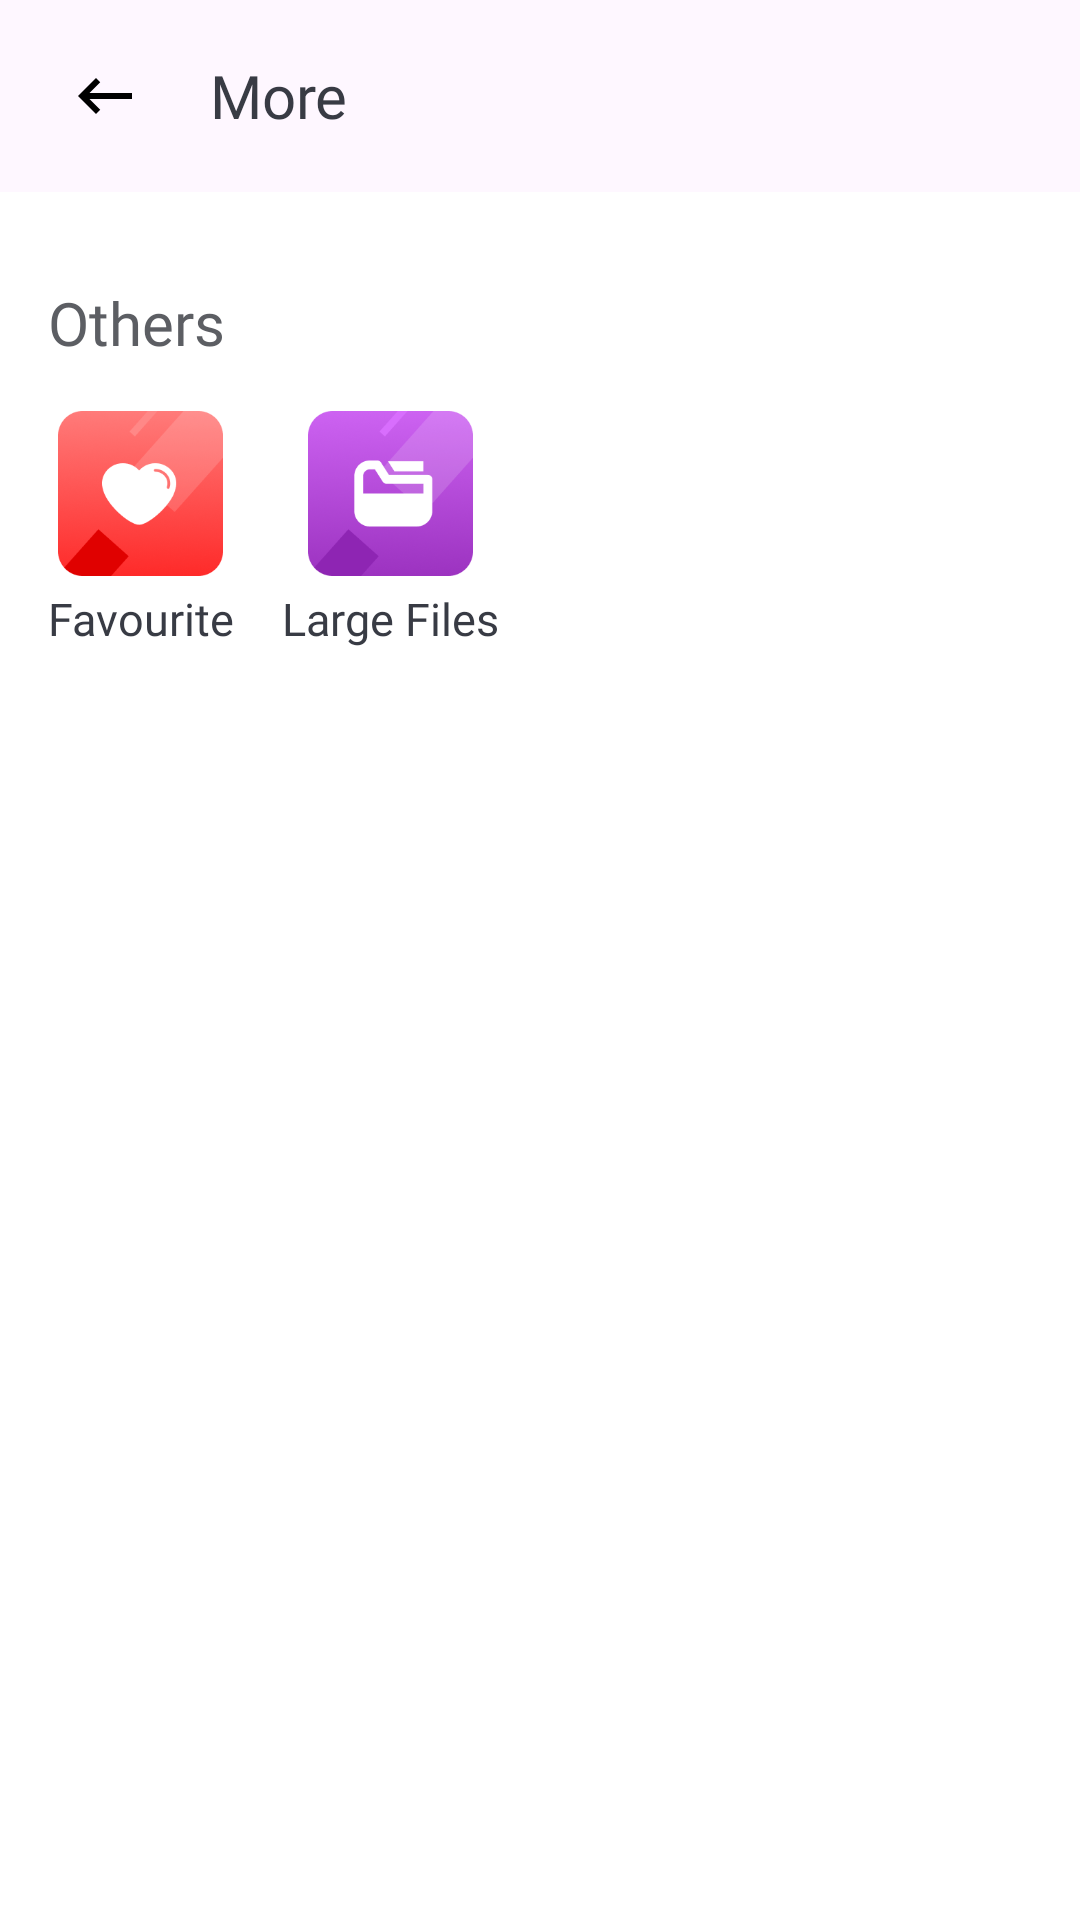

Icon click points for this 1080 x 1920 phone screenshot, format (x,y):
back: (105,96)
